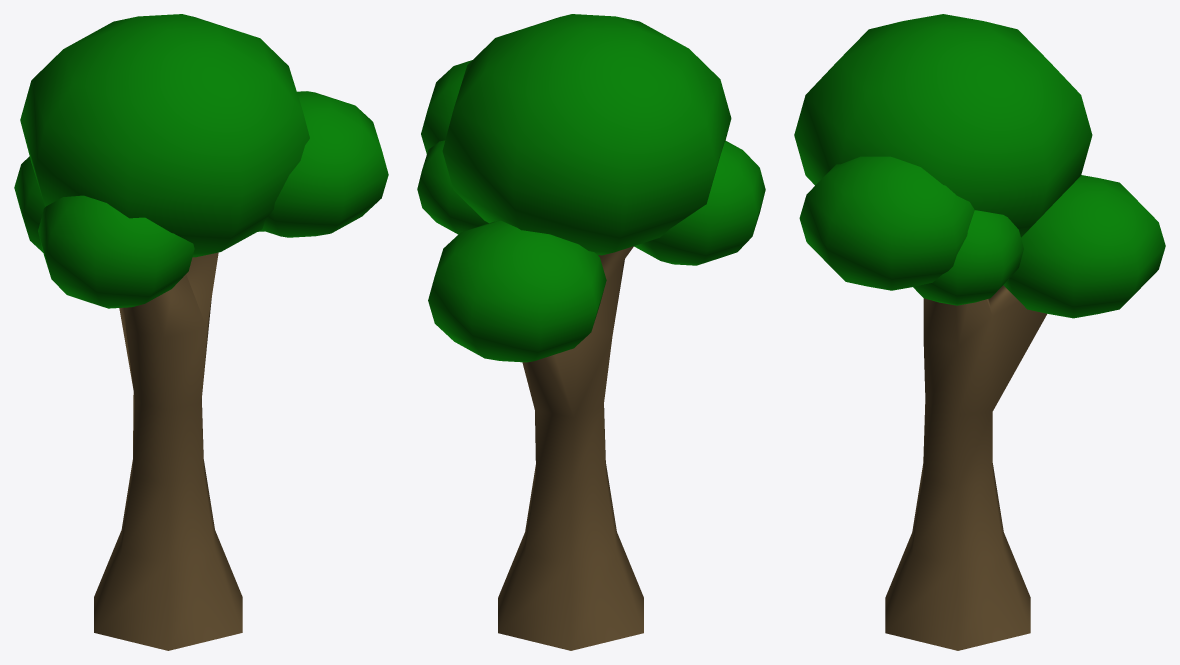
File: PR_StylizedTree_Leaves.fbx
3 views of the same model, side by side, from view 1: azimuth 30°, elevation 25°; view 2: azimuth 150°, elevation 25°; view 3: azimuth 270°, elevation 25° (orthographic).
Visible parts, largest first — view 1: Leaves_low, Trunk_low; view 2: Leaves_low, Trunk_low; view 3: Leaves_low, Trunk_low.
Boxes of the visible parts, x1,y1,x2,y2 form: Leaves_low: [14, 14, 388, 308]; Trunk_low: [94, 252, 242, 650]; Leaves_low: [417, 14, 765, 362]; Trunk_low: [498, 246, 643, 650]; Leaves_low: [794, 14, 1165, 318]; Trunk_low: [885, 285, 1046, 650].
Size of the model in its own units: 119 by 202 by 117.
